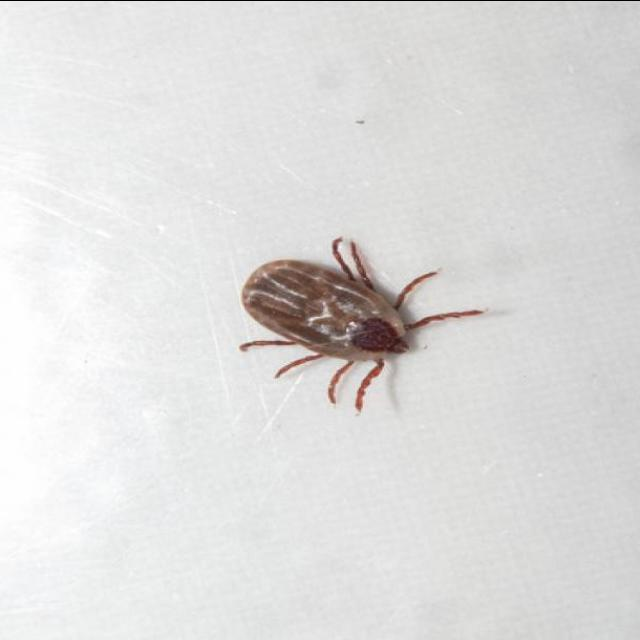Rhipicephalus Sanguineus-F-Fed: (239, 238, 484, 412)
